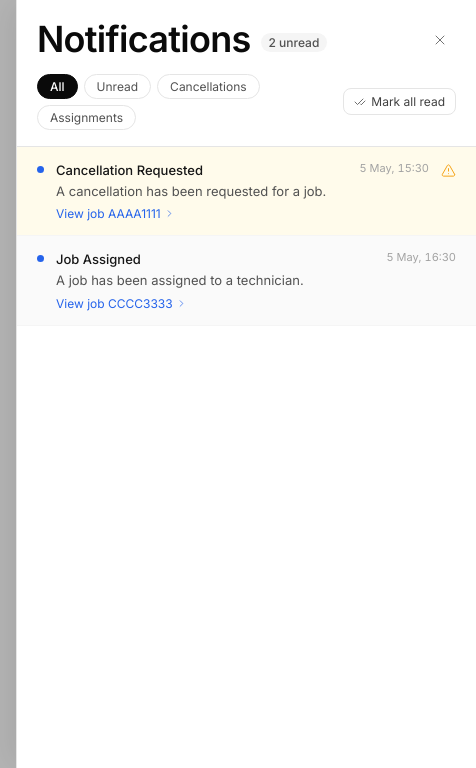
Test: NotificationDrawer › partitions items by category when a filter tab is selected
The width and height of the screenshot is (476, 768).
Check: the text "Cancellation Requested" is shown, box [56, 161, 203, 179]
Check: the text "Job Assigned" is shown, box [56, 250, 141, 268]
Click the button "Cancellations" at (208, 86), box [157, 74, 260, 99]
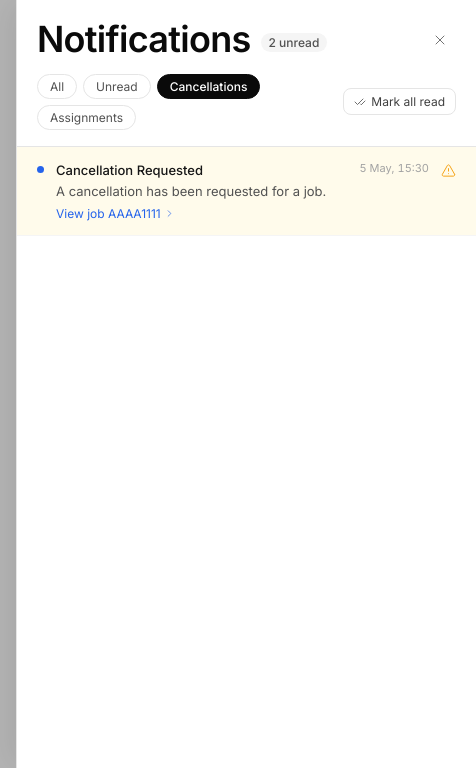
Check: the text "Cancellation Requested" is shown, box [56, 161, 203, 179]
Check: the text "Job Assigned" is gone
